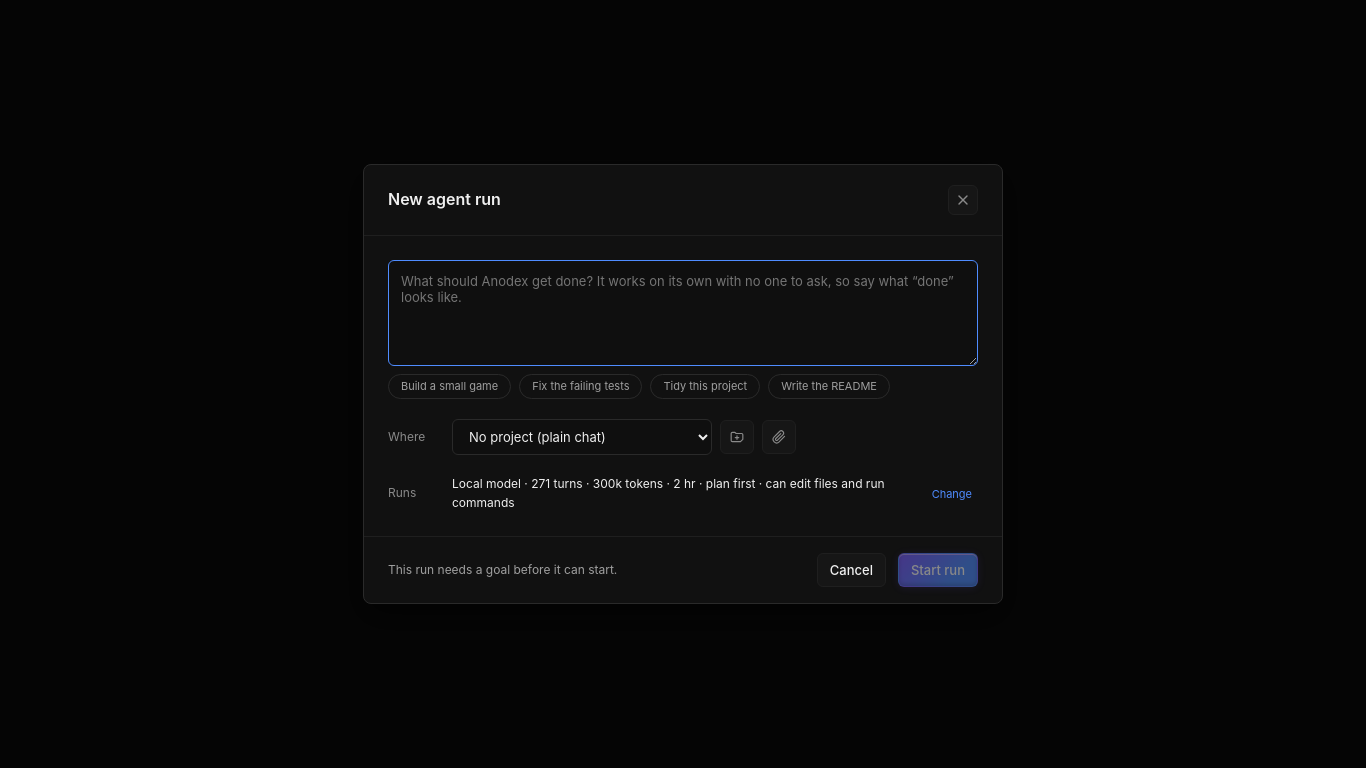
why Start is unavailable › stops saying it once the goal is there
The width and height of the screenshot is (1366, 768).
Replace the text in the text box with placeholder "What should Anodex get done" with "Summarize the changelog" at (683, 313), box [388,260,978,366]
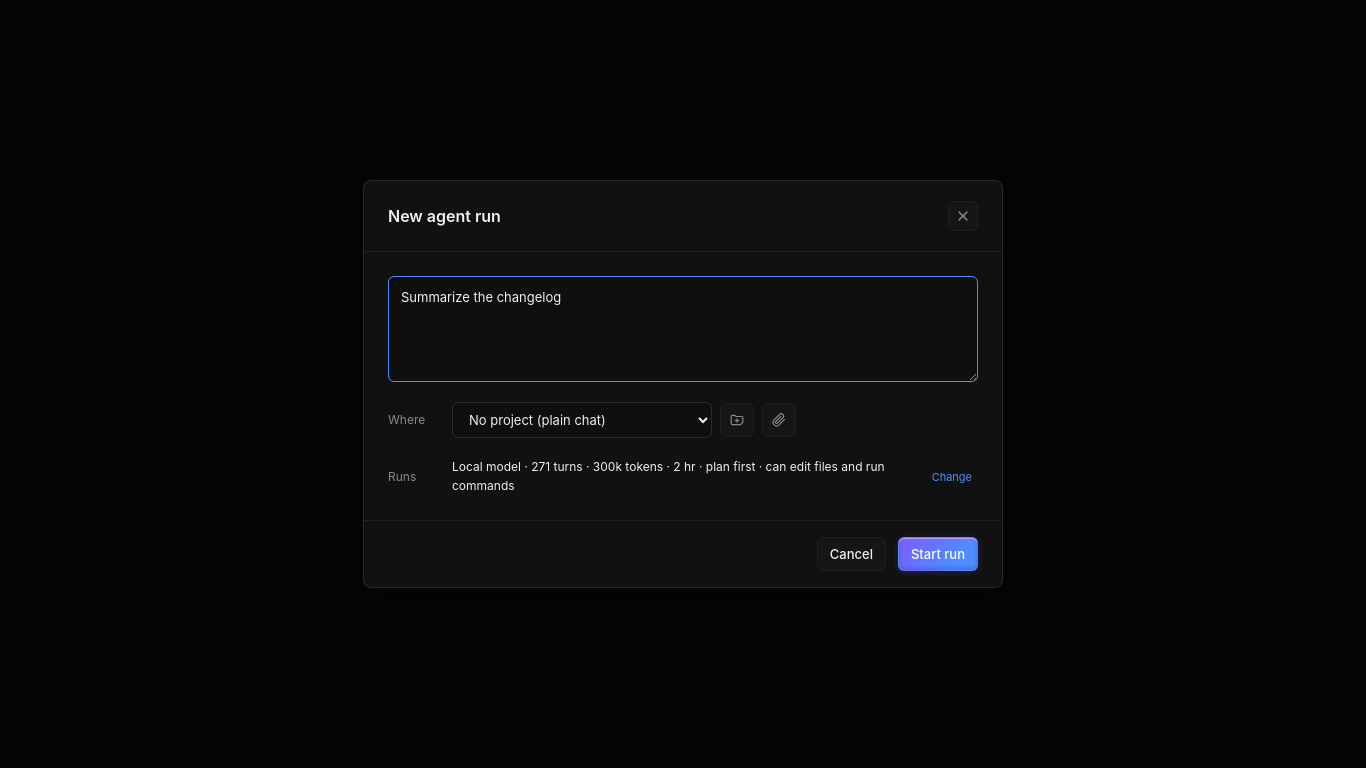
expect the button "Start run" is enabled: met, box [898,537,978,571]
expect the text "needs a goal" is gone: met
